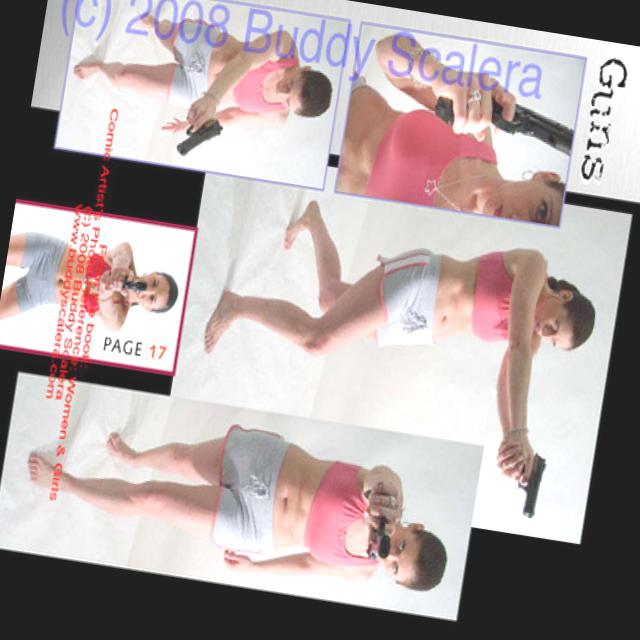handgun: (433, 75, 582, 156), (351, 487, 402, 563), (504, 444, 551, 522), (176, 112, 223, 160), (120, 270, 150, 290)
